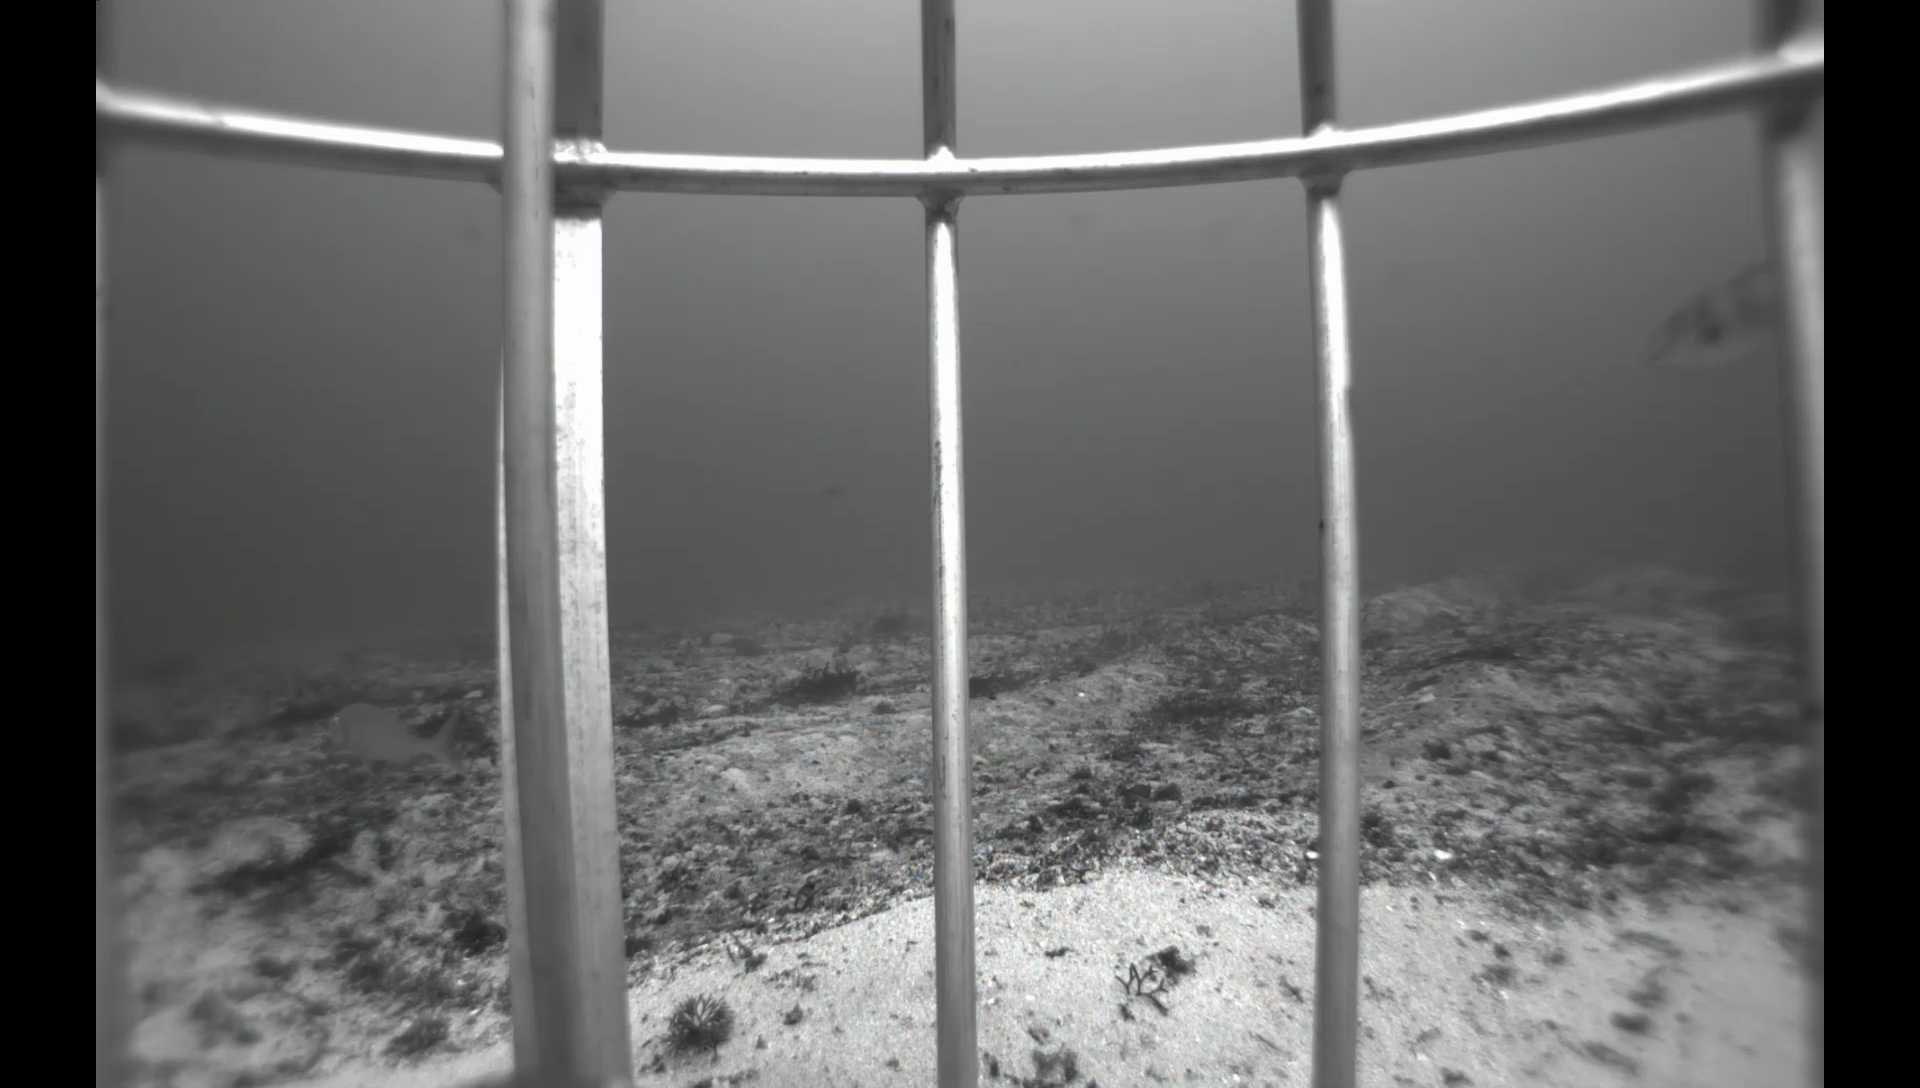BALISTESCAPRISCUS-189030502: (1631, 255, 1774, 390)
PAGRUSPAGRUS-170212302: (315, 700, 472, 782)
